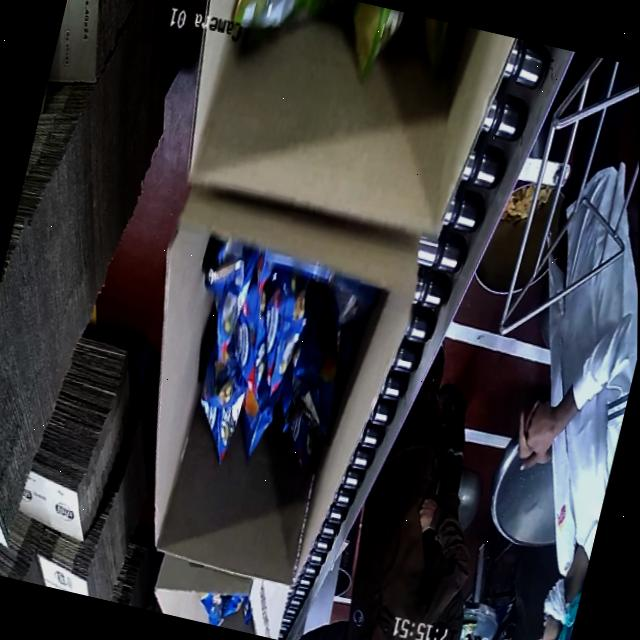PAPRIKA: (155, 231, 368, 475)
